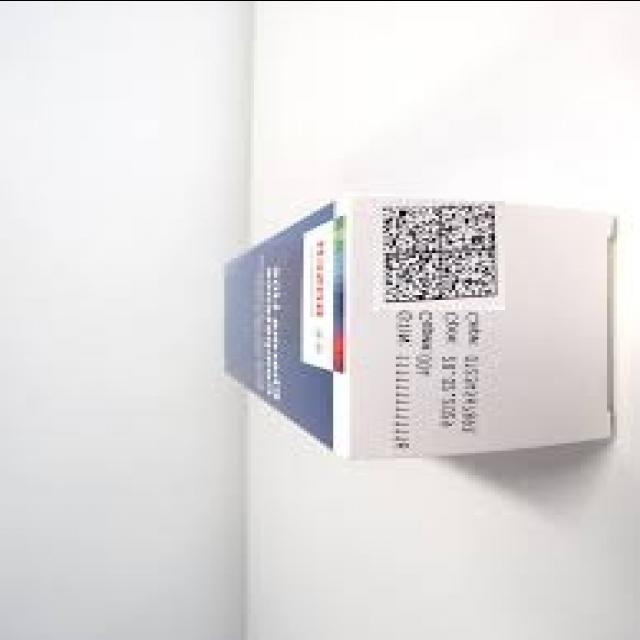DataMatrix: (373, 200, 505, 309)
